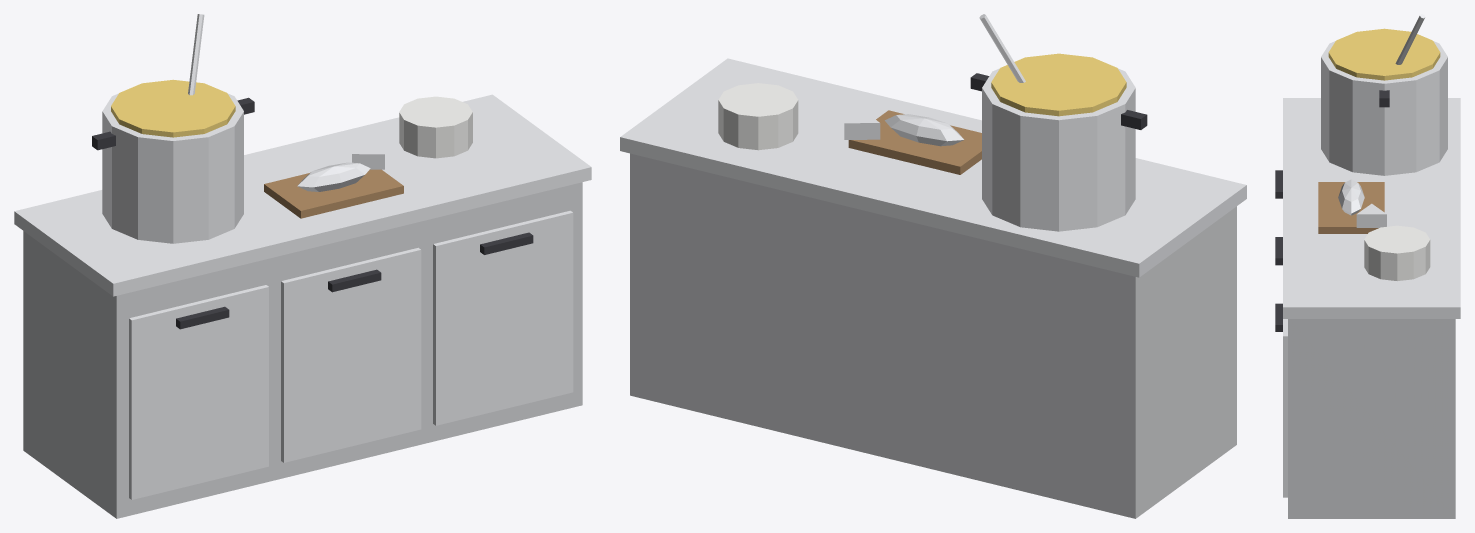
The model's file is HJ_Encimera.fbx.
3 renders of one model, left to right at view 1: azimuth 30°, elevation 25°; view 2: azimuth 150°, elevation 25°; view 3: azimuth 270°, elevation 25°, orthographic. The views are drawn at different scales.
Visible parts, largest first — view 1: HJ_Encimera; view 2: HJ_Encimera; view 3: HJ_Encimera.
Boxes of the visible parts, bbox=[...] form: HJ_Encimera: bbox=[14, 14, 591, 518]; HJ_Encimera: bbox=[620, 14, 1246, 518]; HJ_Encimera: bbox=[1275, 14, 1460, 518].
Size of the model in its own units: 1.95 by 1.61 by 0.73.
